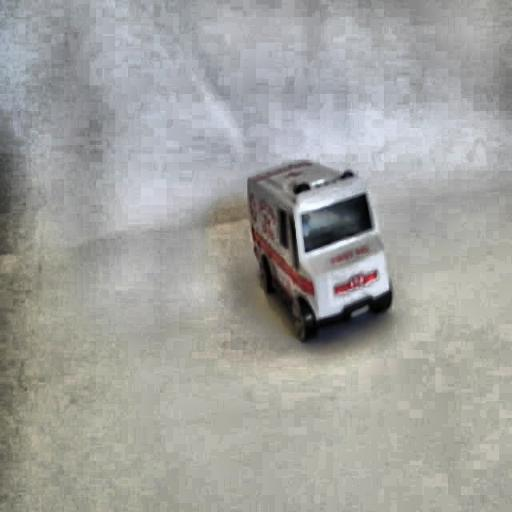ambulance: (246, 159, 392, 342)
